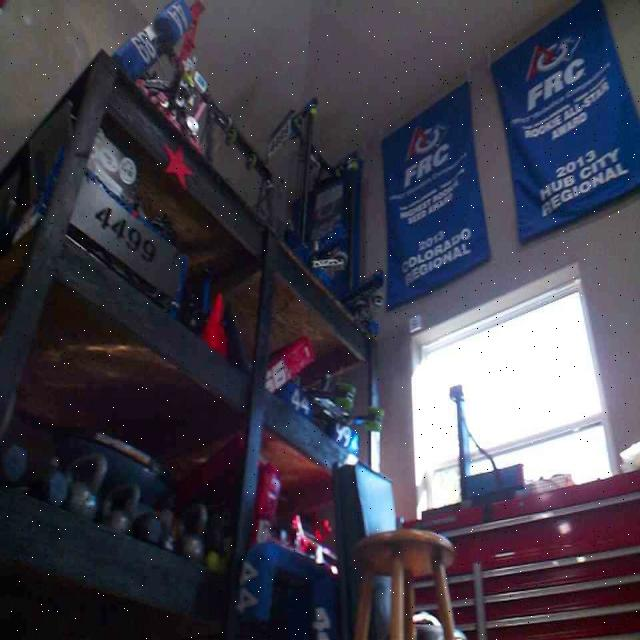star_red: (162, 142, 191, 185)
